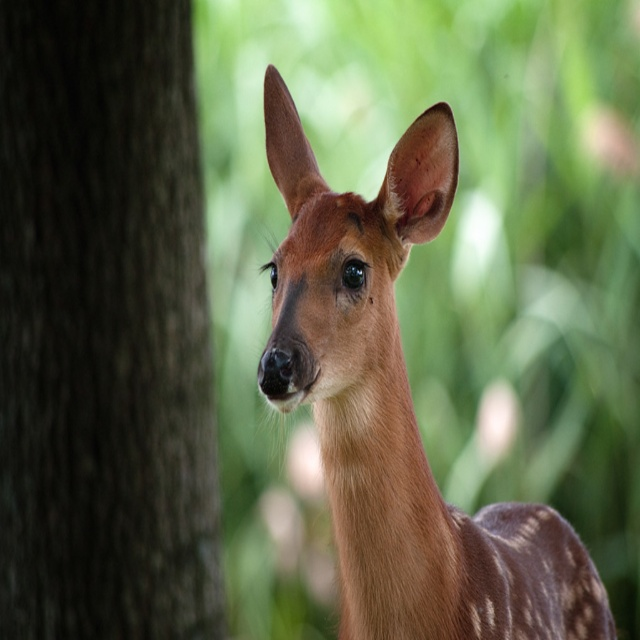Deer: (258, 69, 619, 638)
